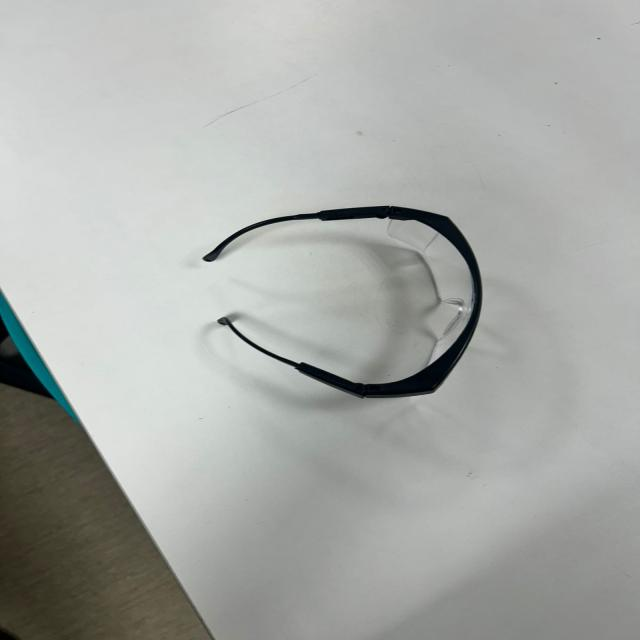oculos-epi: (199, 201, 487, 401)
